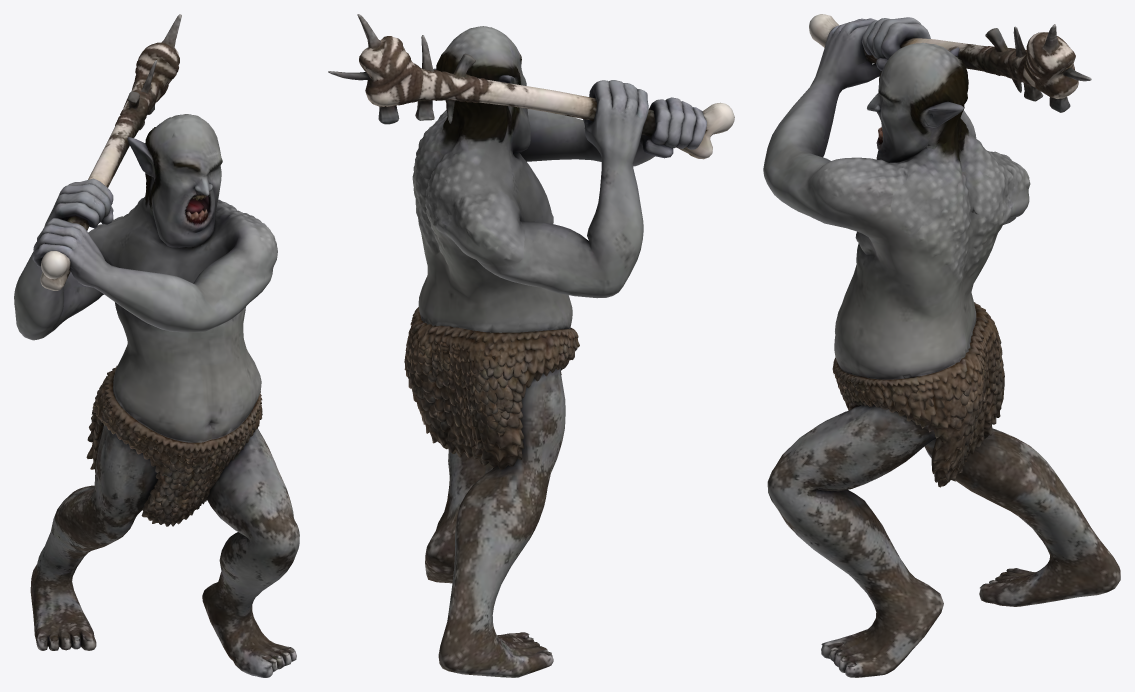
Rendered from MZ4250 - Grimlock.glb.
3 views of the same model, side by side, from view 1: azimuth 30°, elevation 25°; view 2: azimuth 150°, elevation 25°; view 3: azimuth 270°, elevation 25° (orthographic). The views are drawn at different scales.
Visible parts, largest first — view 1: Body.002; view 2: Body.002; view 3: Body.002.
Boxes of the visible parts, x1,y1,x2,y2 form: Body.002: (14, 14, 299, 677); Body.002: (328, 14, 734, 677); Body.002: (763, 14, 1120, 677).
Bounding box in the file's own units: 0.3949 × 0.8331 × 0.4176.
1 material, 1 textured.
